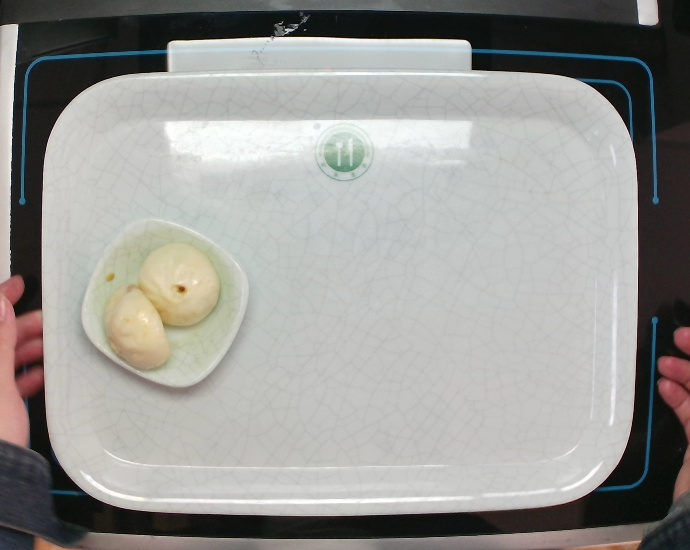JYsf-Si_Fang_Die: (74, 213, 257, 393)
